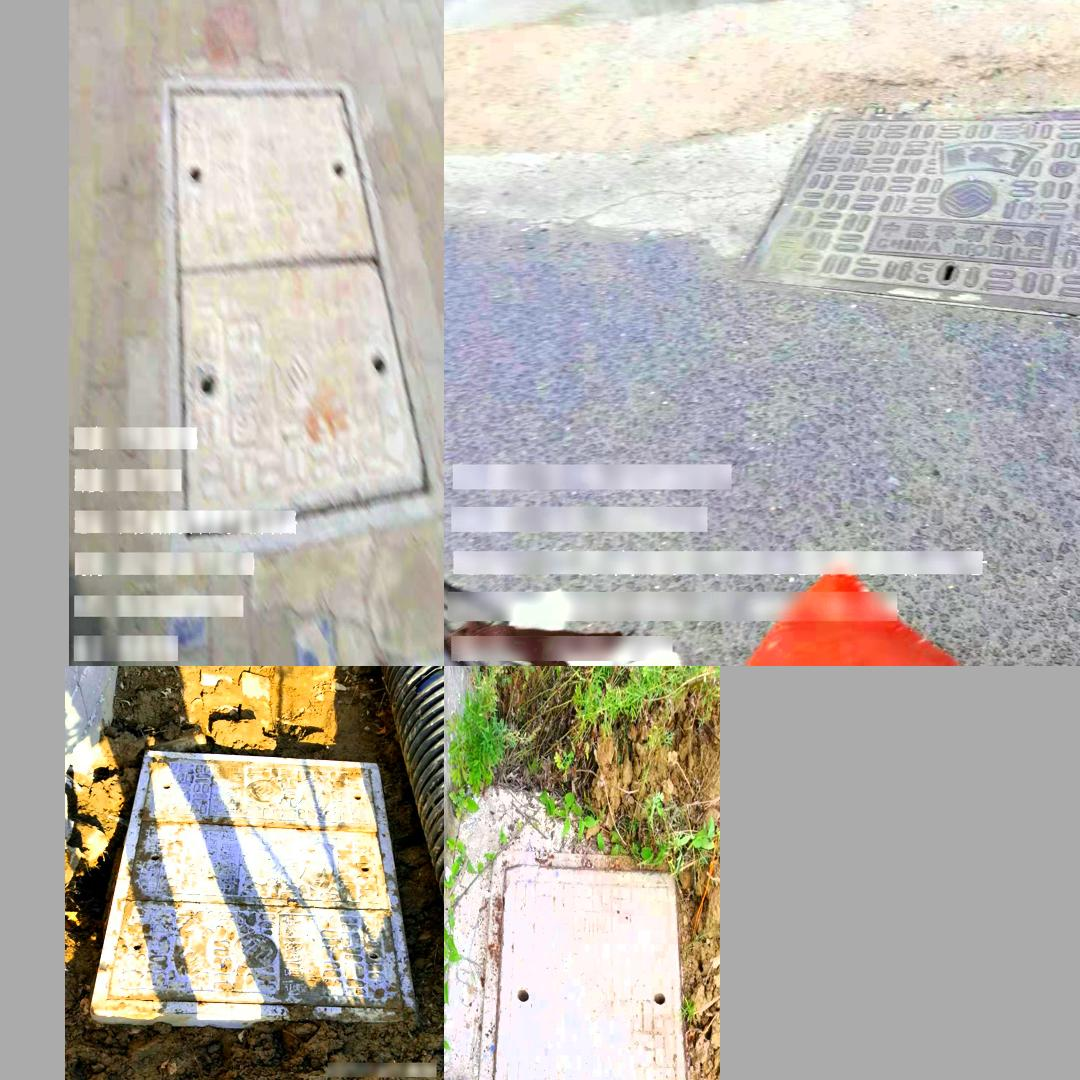good: (162, 75, 443, 560), (745, 108, 1080, 338), (96, 762, 382, 1009), (471, 853, 697, 1080)
